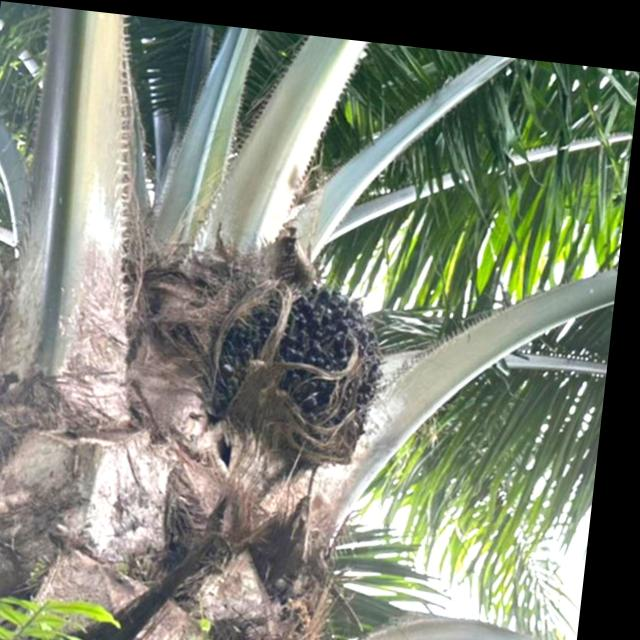unripe: (201, 253, 401, 459)
